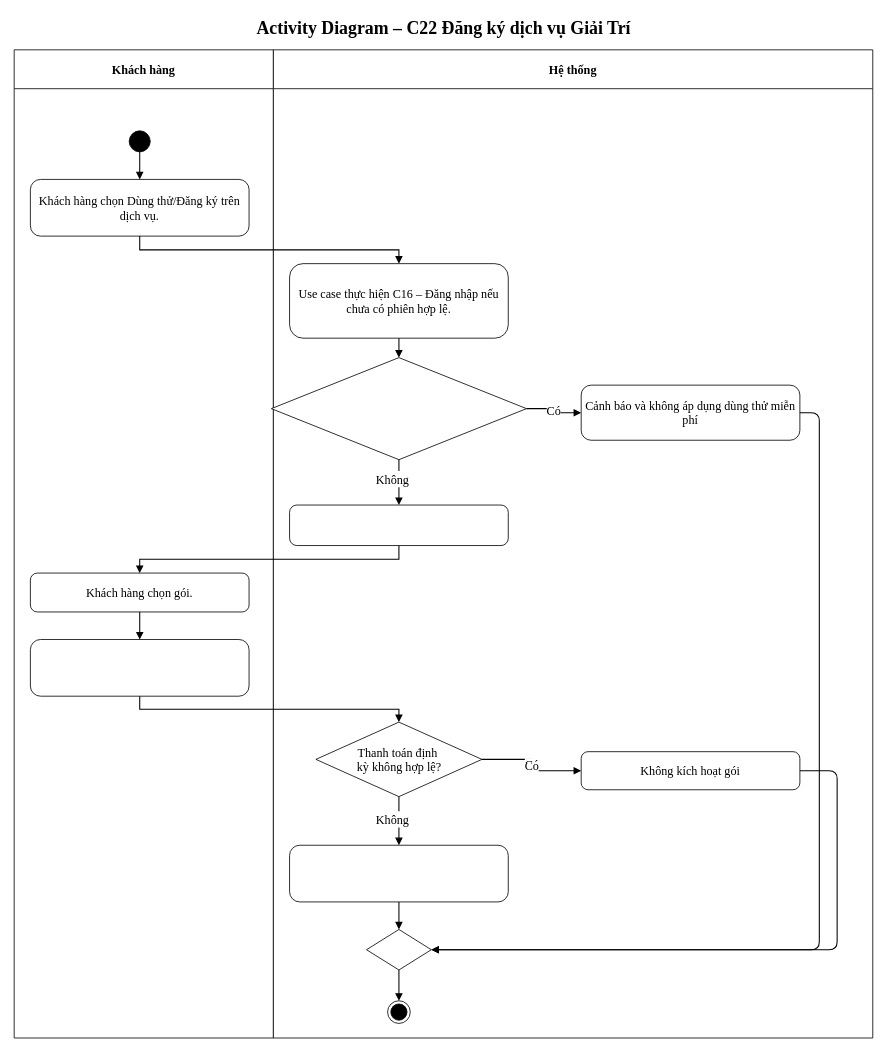
Image size: 887x1052. Some labels were removed from this diagram. The shapes that lost their labels are listed below. From the top down, each one's box as (x1, y1, x2, y2) in pixels, then its label:
(271, 357, 526, 460): Đã dùng thử hoặc đang đăng ký dịch vụ này (không còn ưu đãi người mới)?
(289, 504, 508, 546): Hệ thống hiển thị gói và điều khoản.
(30, 639, 249, 696): Khách hàng xác nhận phương thức thanh toán/đăng ký.
(289, 844, 508, 902): Hệ thống kích hoạt đăng ký nếu giao dịch hợp lệ.
